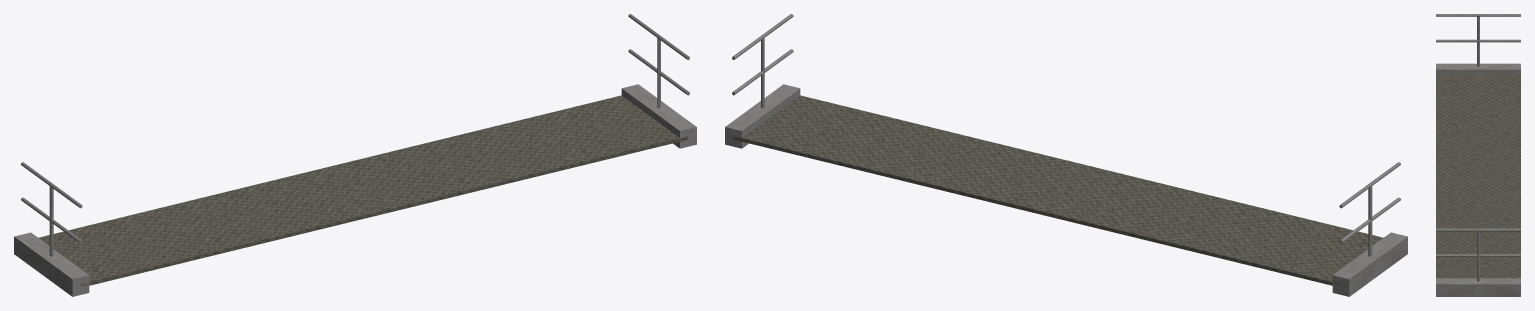
Rendered from lab-platform.fbx.
3 views of the same model, side by side, from view 1: azimuth 30°, elevation 25°; view 2: azimuth 150°, elevation 25°; view 3: azimuth 270°, elevation 25° (orthographic). The views are drawn at different scales.
Visible parts, largest first — view 1: floor3, left, left1; view 2: floor3, left, left1; view 3: floor3, left1, left, rail2 (×2), rail1 (×2), rail (×2).
Part boxes in pixels (left/top/right/bottom): floor3: left=38, top=95, right=688, bottom=285; left: left=14, top=232, right=89, bottom=296; left1: left=621, top=84, right=696, bottom=148; floor3: left=733, top=95, right=1383, bottom=285; left: left=1332, top=232, right=1407, bottom=296; left1: left=725, top=84, right=800, bottom=148; floor3: left=1436, top=74, right=1520, bottom=278; left1: left=1436, top=278, right=1520, bottom=296; left: left=1436, top=63, right=1520, bottom=74; rail2 (×2): left=1436, top=14, right=1520, bottom=231; rail1 (×2): left=1436, top=39, right=1520, bottom=256; rail (×2): left=1477, top=16, right=1479, bottom=281.
Size of the model in its own units: 1850 by 255 by 300.
